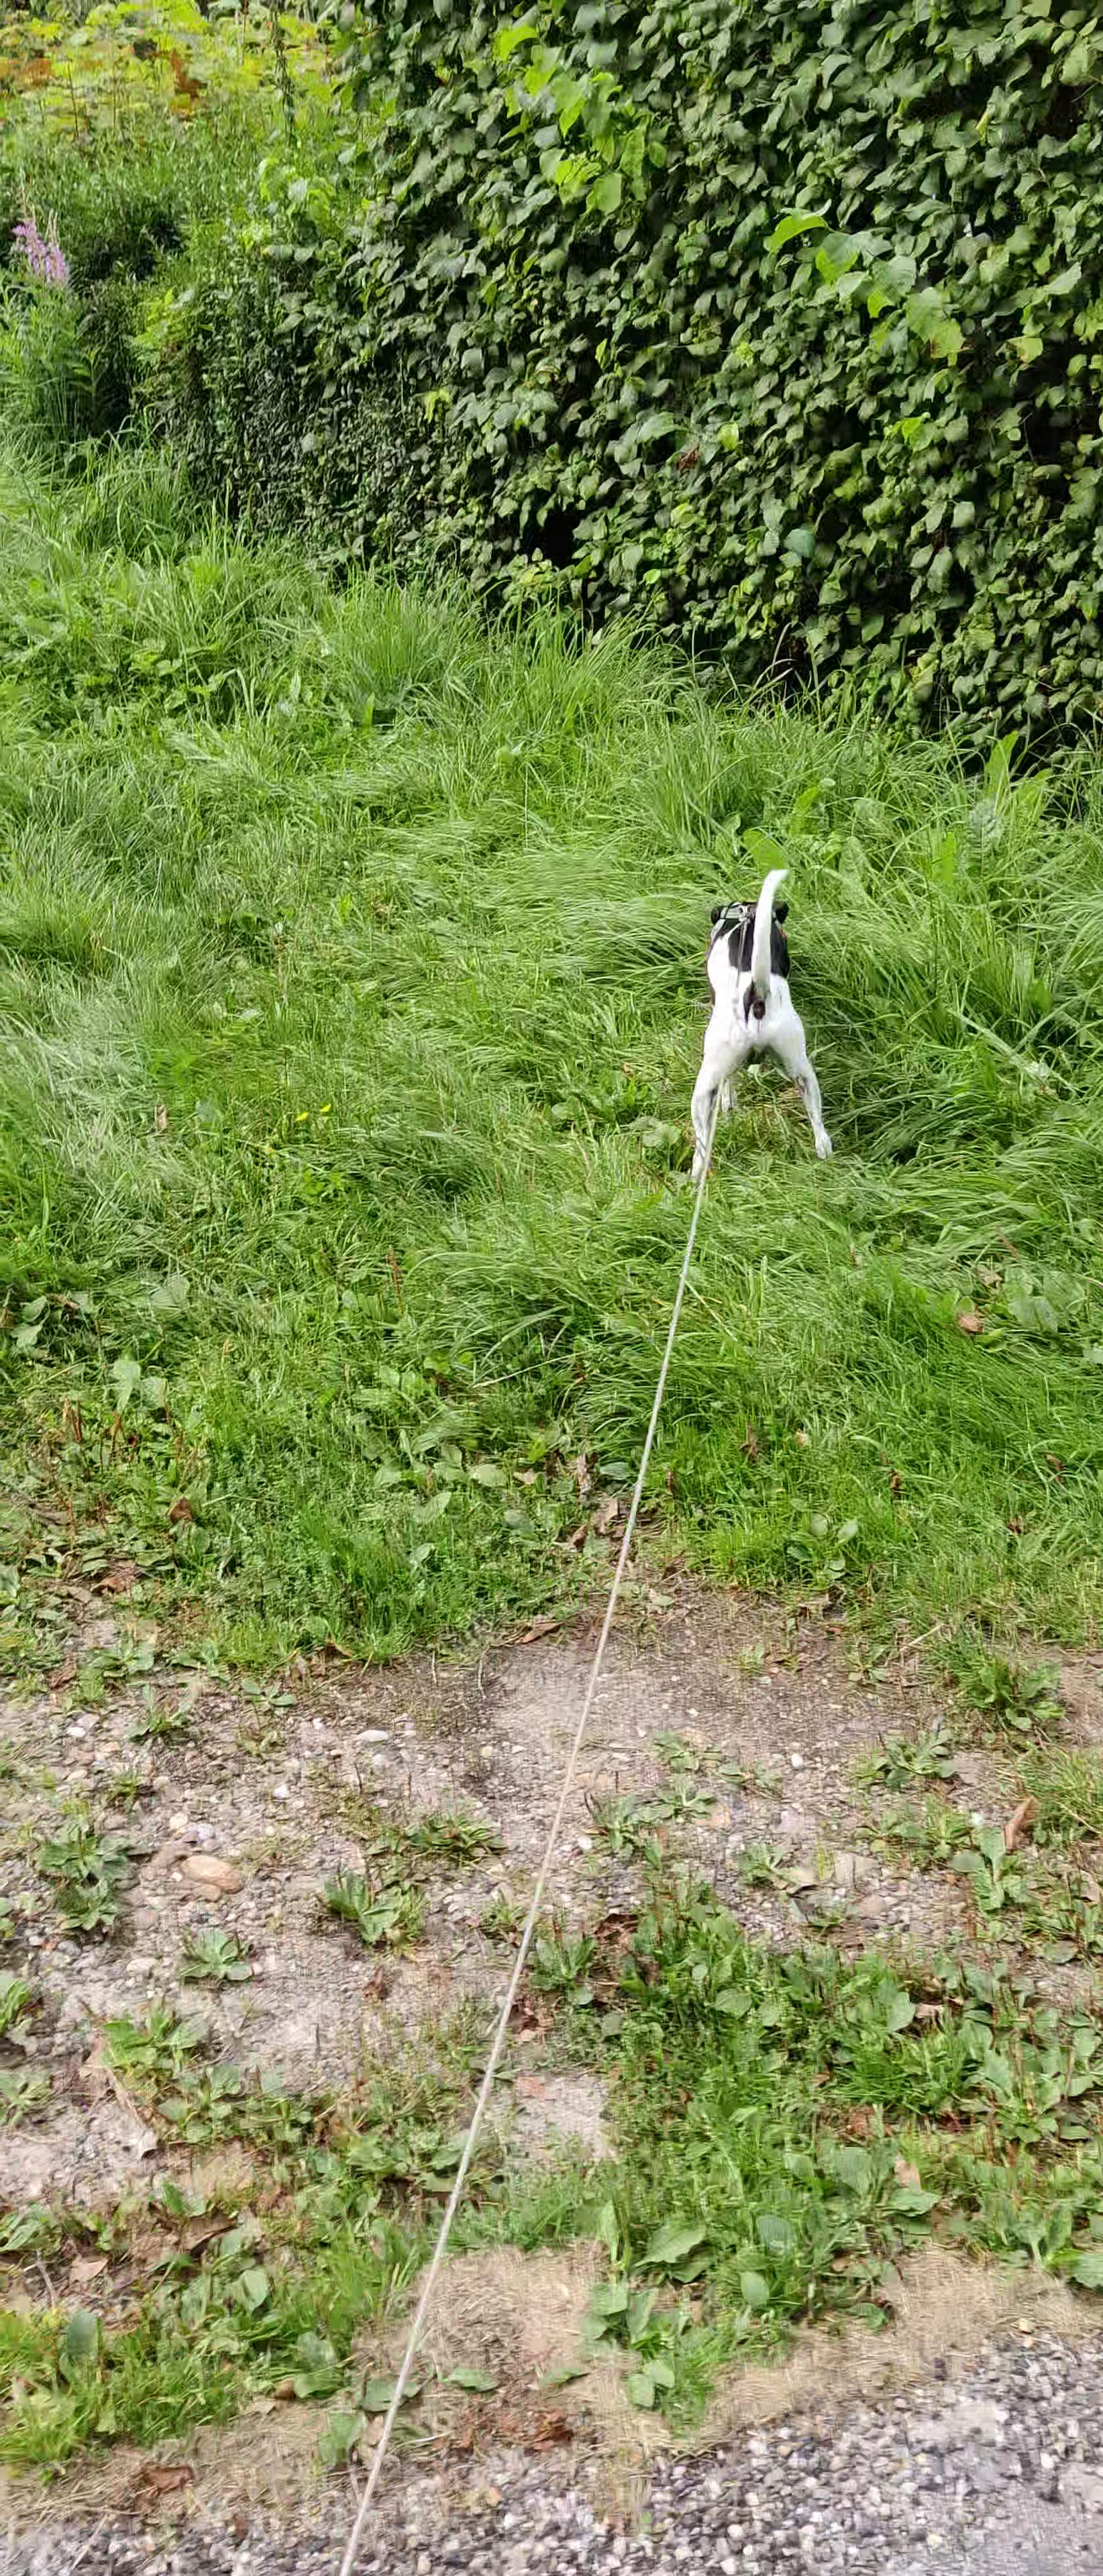Dog: (667, 854, 853, 1204)
